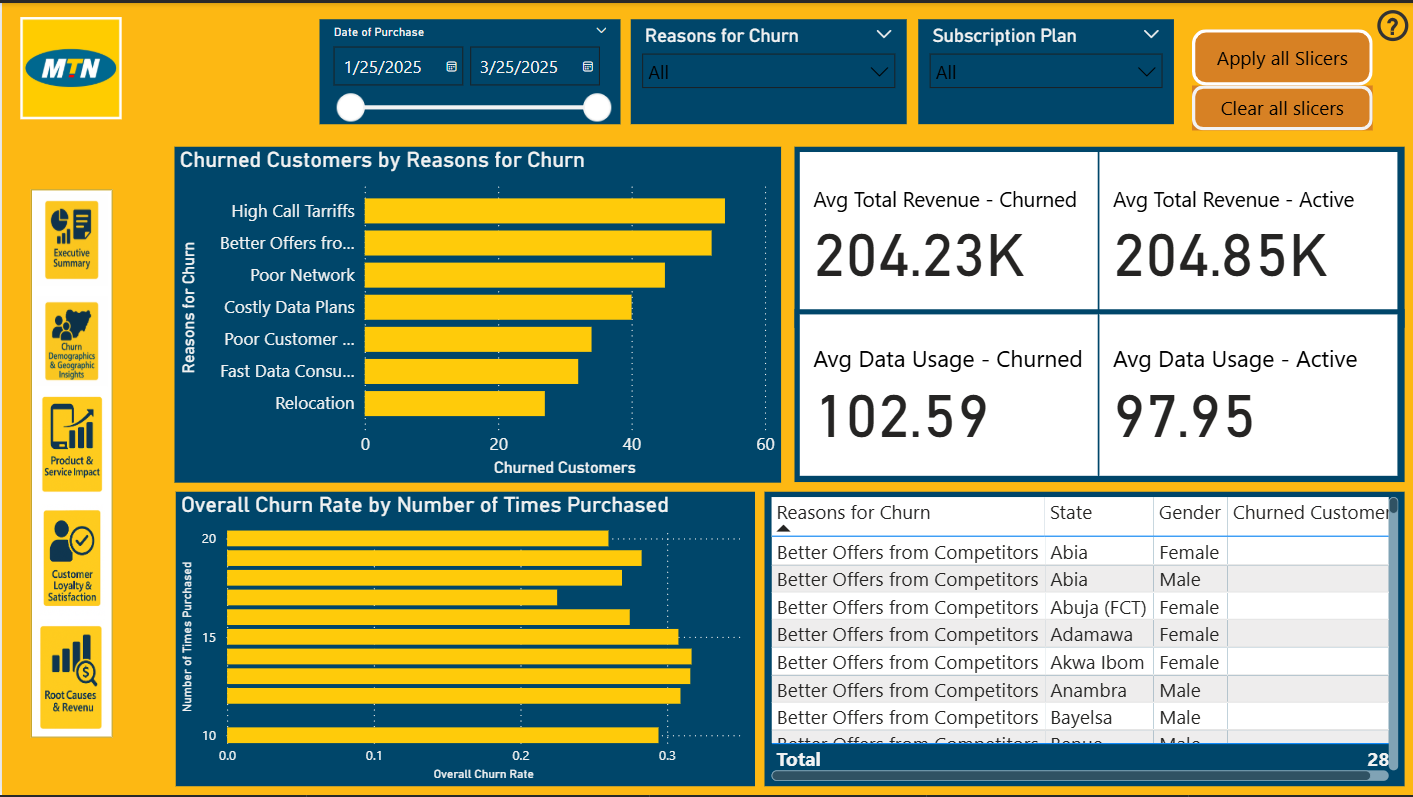

The page's visual inventory and layout, read from the dashboard file:
{"tool":"powerbi","page":{"name":"Root Causes & Revenue Insights","canvas":[1280,720],"ordinal":4},"visuals":[{"type":"barChart","fields":{"Category":["MTN Nigeria Customer Churn.Reasons for Churn"],"Y":["MTN Nigeria Customer Churn.Churned Customers"]},"box":[157,130.2,550,304.7],"z":0},{"type":"tableEx","fields":{"Values":["MTN Nigeria Customer Churn.Reasons for Churn","MTN Nigeria Customer Churn.State","MTN Nigeria Customer Churn.Gender","MTN Nigeria Customer Churn.Churned Customers"]},"box":[691.5,443.9,580.5,267.1],"z":1000},{"type":"cardVisual","fields":{"Data":["MTN Nigeria Customer Churn.Avg Total Revenue - Churned","MTN Nigeria Customer Churn.Avg Total Revenue - Non-Churned"]},"box":[718.6,130.2,553.5,164],"z":2000},{"type":"barChart","fields":{"Category":["MTN Nigeria Customer Churn.Number of Times Purchased"],"Y":["MTN Nigeria Customer Churn.Overall Churn Rate"]},"box":[157.3,443.9,525.6,267.1],"z":3000},{"type":"cardVisual","fields":{"Data":["MTN Nigeria Customer Churn.Avg Data Usage - Churned","MTN Nigeria Customer Churn.Avg Data Usage - Non-Churned"]},"box":[718.6,277.9,553.5,157],"z":4000},{"type":"slicer","fields":{"Values":["MTN Nigeria Customer Churn.Reasons for Churn"]},"box":[570.7,14.6,250,95.1],"z":5000},{"type":"slicer","fields":{"Values":["MTN Nigeria Customer Churn.Subscription Plan"]},"box":[831.7,14.6,231.7,95.1],"z":6000},{"type":"slicer","fields":{"Values":["MTN Nigeria Customer Churn.Date of Purchase"]},"box":[287.8,14.6,273.2,95.1],"z":7000},{"type":"image","box":[10.5,8.1,104.7,102.3],"z":8000},{"type":"actionButton","box":[1242.7,0,37.8,41.5],"z":9000},{"type":"shape","box":[25.6,168.6,74.4,497.7],"z":10000},{"type":"image","box":[25.6,168.6,74.4,91.9],"z":11000},{"type":"image","box":[25.6,260.5,74.4,91.9],"z":12000},{"type":"image","box":[25.6,448.8,74.4,111.6],"z":13000},{"type":"image","box":[9.3,554.7,105.8,111.6],"z":14000},{"type":"image","box":[25.6,348.8,74.4,100],"z":15000},{"type":"actionButton","box":[1079.8,74.4,164,40.7],"z":15001},{"type":"shape","box":[1079.8,23.3,164,51.2],"z":15002}]}

Visuals, with their boxes in screenshot pixels (x1, y1, x2, y2), scaled from the page's 1280x720 canvas onto the 1413x797 screenshot:
barChart - MTN Nigeria Customer Churn.Reasons for Churn x MTN Nigeria Customer Churn.Churned Customers: [left=173, top=144, right=780, bottom=481]
tableEx - MTN Nigeria Customer Churn.Reasons for Churn x MTN Nigeria Customer Churn.State: [left=763, top=491, right=1404, bottom=787]
cardVisual - MTN Nigeria Customer Churn.Avg Total Revenue - Churned x MTN Nigeria Customer Churn.Avg Total Revenue - Non-Churned: [left=793, top=144, right=1404, bottom=326]
barChart - MTN Nigeria Customer Churn.Number of Times Purchased x MTN Nigeria Customer Churn.Overall Churn Rate: [left=174, top=491, right=754, bottom=787]
cardVisual - MTN Nigeria Customer Churn.Avg Data Usage - Churned x MTN Nigeria Customer Churn.Avg Data Usage - Non-Churned: [left=793, top=308, right=1404, bottom=481]
slicer - MTN Nigeria Customer Churn.Reasons for Churn: [left=630, top=16, right=906, bottom=121]
slicer - MTN Nigeria Customer Churn.Subscription Plan: [left=918, top=16, right=1174, bottom=121]
slicer - MTN Nigeria Customer Churn.Date of Purchase: [left=318, top=16, right=619, bottom=121]
image: [left=12, top=9, right=127, bottom=122]
actionButton: [left=1372, top=0, right=1412, bottom=46]
shape: [left=28, top=187, right=110, bottom=738]
image: [left=28, top=187, right=110, bottom=288]
image: [left=28, top=288, right=110, bottom=390]
image: [left=28, top=497, right=110, bottom=620]
image: [left=10, top=614, right=127, bottom=738]
image: [left=28, top=386, right=110, bottom=497]
actionButton: [left=1192, top=82, right=1373, bottom=127]
shape: [left=1192, top=26, right=1373, bottom=82]
